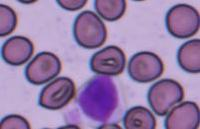L: (75, 72, 123, 127)
